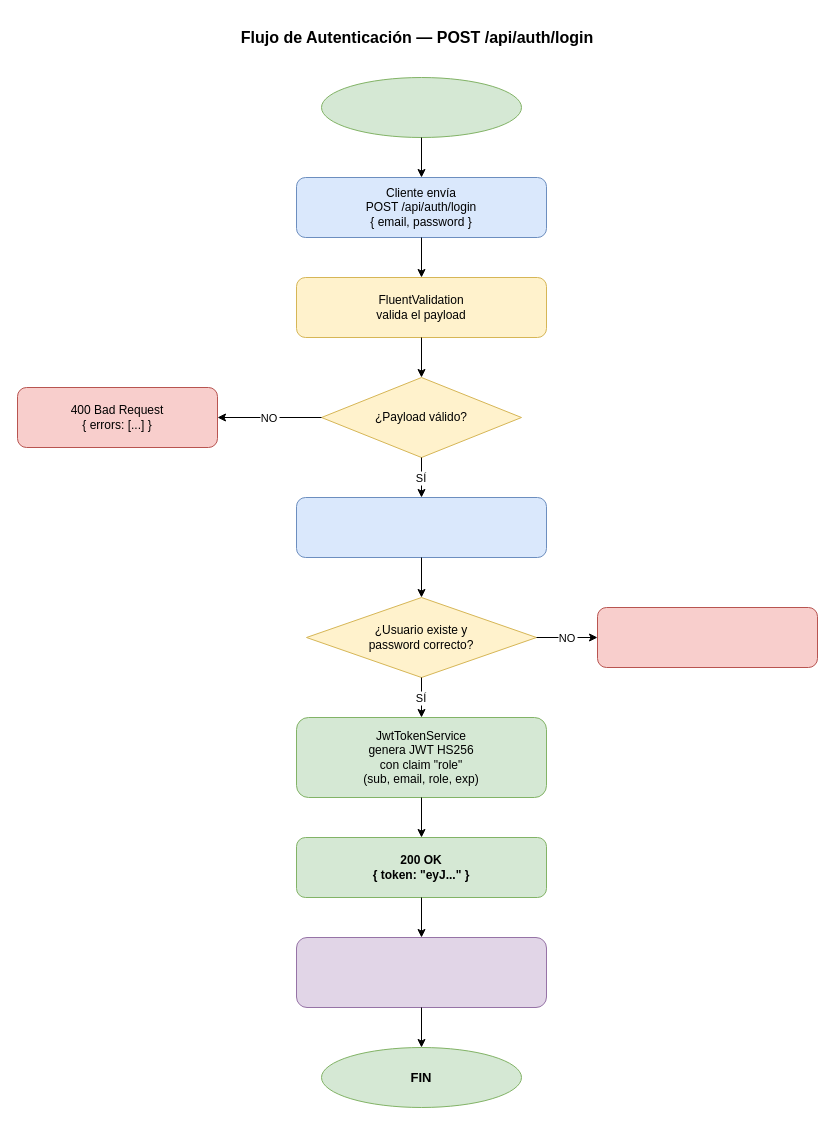
Image size: 835x1125. Some labels were removed from this diagram. The centre of each missing label's shape, as x and y in pixels:
401 Unauthorized { message: "Credenciales inválidas" }: [707,637]
Buscar usuario por email en BD: [421,527]
Cliente almacena el JWT y lo usa en Authorization: Bearer {token}: [421,972]
INICIO: [421,107]
